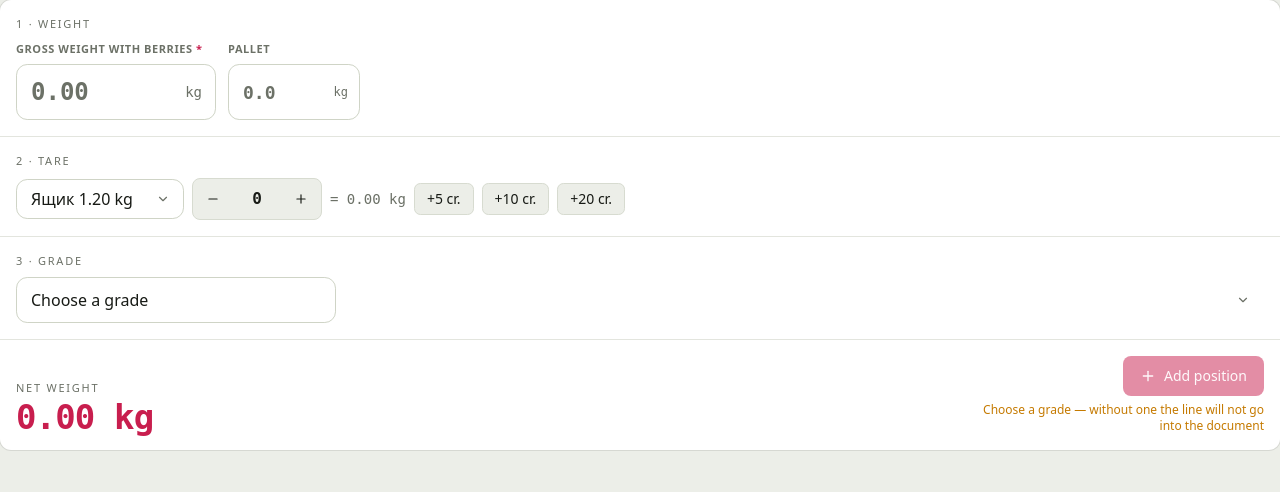
Test case: WeighingForm › hands up a complete draft, clears the fields, and KEEPS a non-default tare type
Select "Диб 2.50 kg" in the dropdown named "Tare type" at coordinates (100, 198), box top-left (16, 178), bottom-right (184, 218)
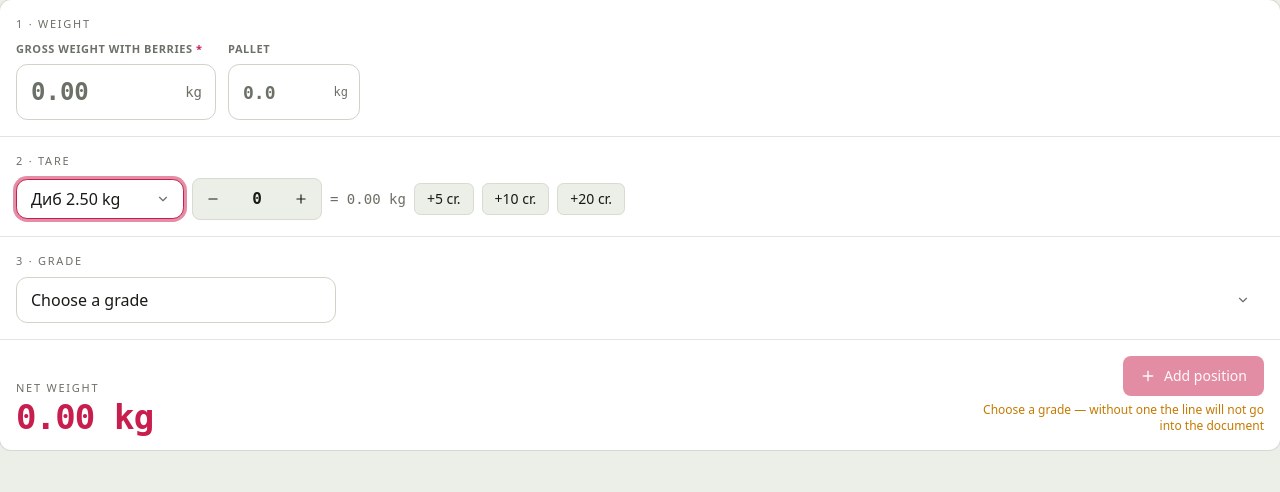
Type "120.50" into the field labelled "Gross weight with berries" at coordinates (116, 92), box top-left (16, 64), bottom-right (216, 120)
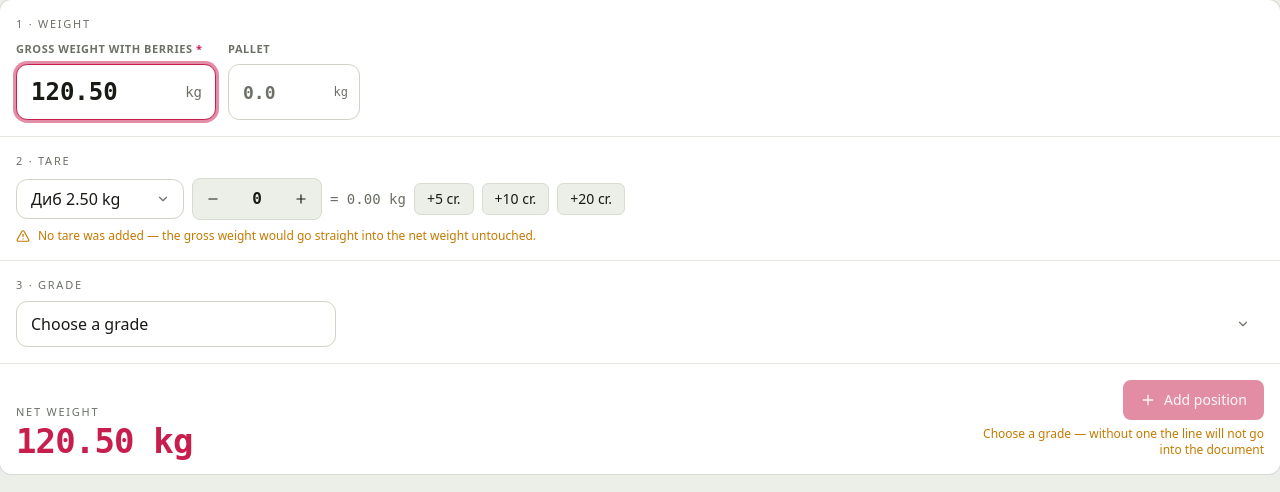
Type "20" into the field labelled "Pallet" at coordinates (294, 92), box top-left (228, 64), bottom-right (360, 120)
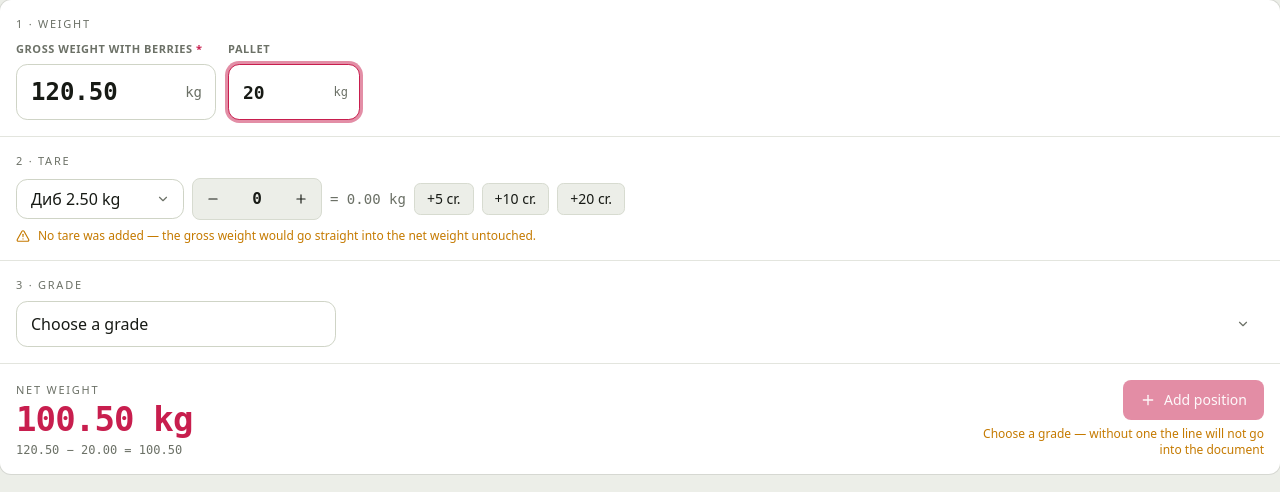
Replace the text in the field named "Number of crates" with "5" at coordinates (257, 198), box top-left (233, 186), bottom-right (281, 210)
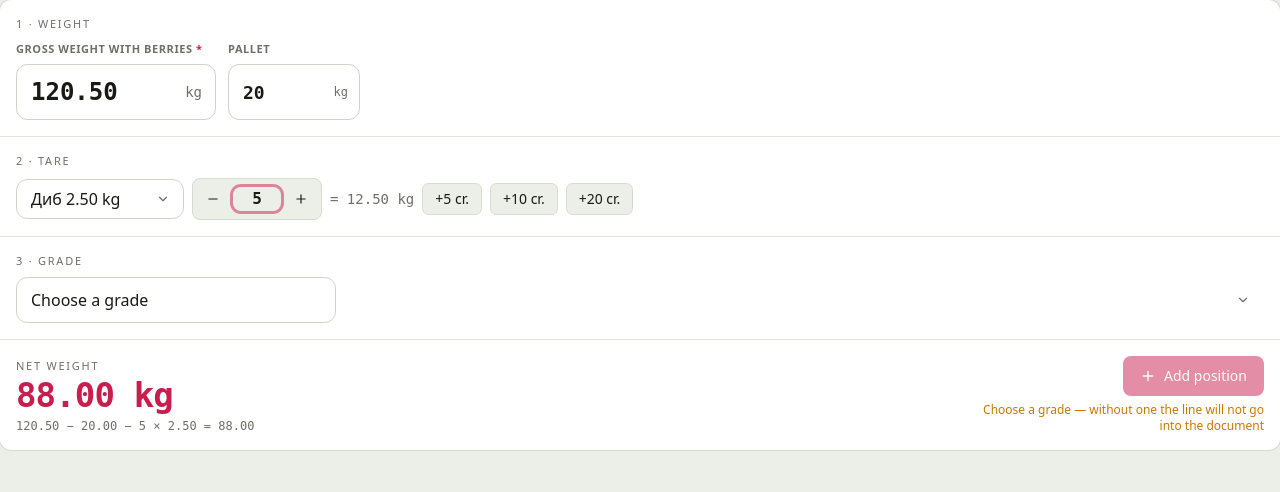
Select "Малина 1" in the dropdown named "Grade" at coordinates (176, 300), box top-left (16, 277), bottom-right (336, 323)
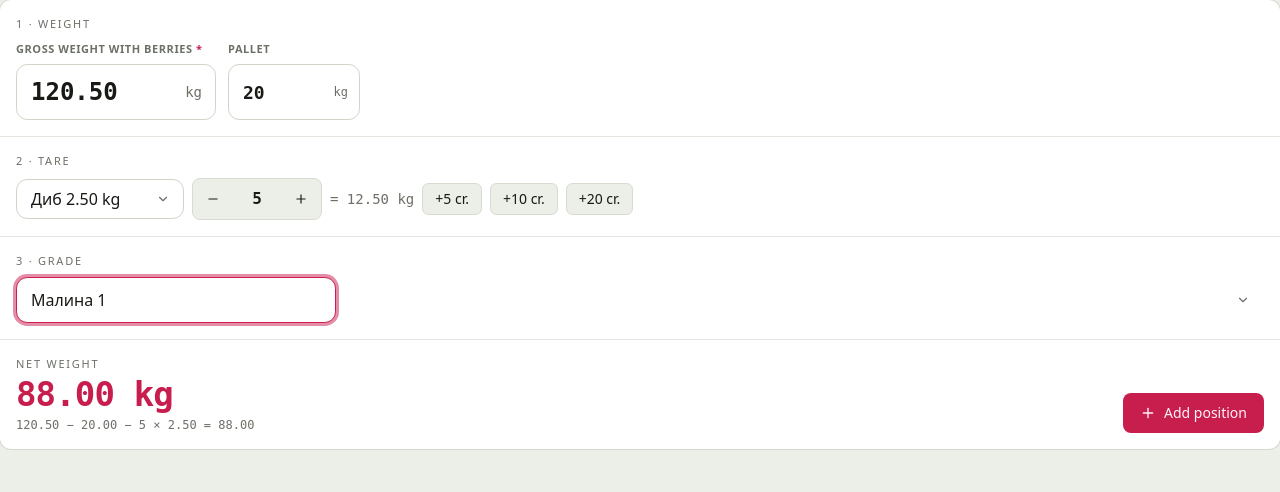
Click the button "Add position" at coordinates (1194, 412), box top-left (1123, 392), bottom-right (1264, 432)
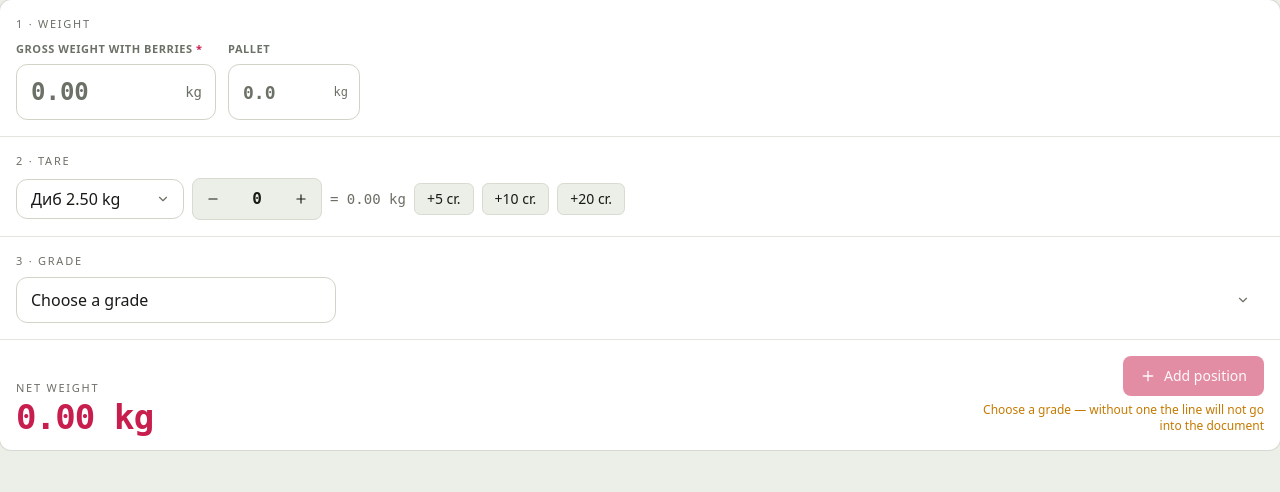
Expected: the field labelled "Gross weight with berries" is empty, top-left (16, 64), bottom-right (216, 120)
Expected: the field labelled "Pallet" is empty, top-left (228, 64), bottom-right (360, 120)
Expected: the field named "Number of crates" holds "0", top-left (233, 186), bottom-right (281, 210)
